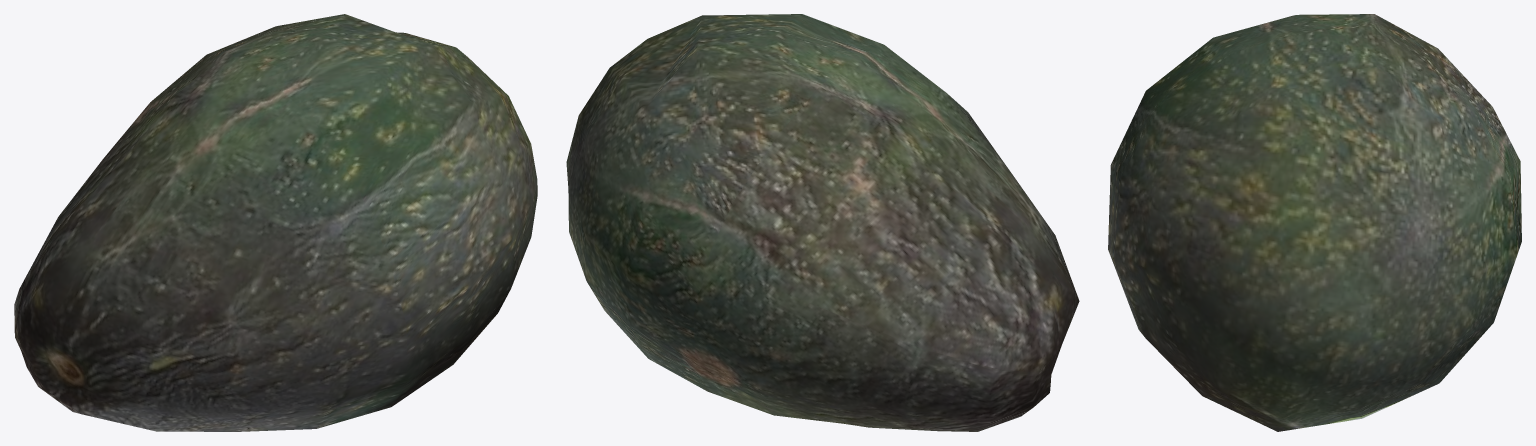
Rendered from A13_Avocado_low.fbx.
3 views of the same model, side by side, from view 1: azimuth 30°, elevation 25°; view 2: azimuth 150°, elevation 25°; view 3: azimuth 270°, elevation 25° (orthographic). The views are drawn at different scales.
Visible parts, largest first — view 1: A13_Avocado_low; view 2: A13_Avocado_low; view 3: A13_Avocado_low.
Part boxes in pixels (x1=…): A13_Avocado_low: x1=14, y1=14, x2=537, y2=431; A13_Avocado_low: x1=566, y1=14, x2=1079, y2=431; A13_Avocado_low: x1=1108, y1=14, x2=1521, y2=431.
Size of the model in its own units: 10.03 by 7.06 by 7.17.
Materials: 1 (1 with a texture image).
